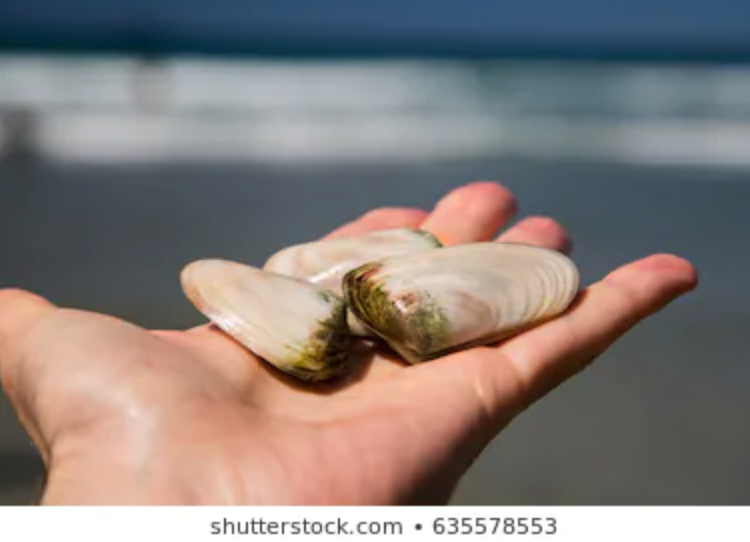tuatua: (342, 242, 585, 364), (179, 249, 353, 387), (261, 226, 440, 279)
